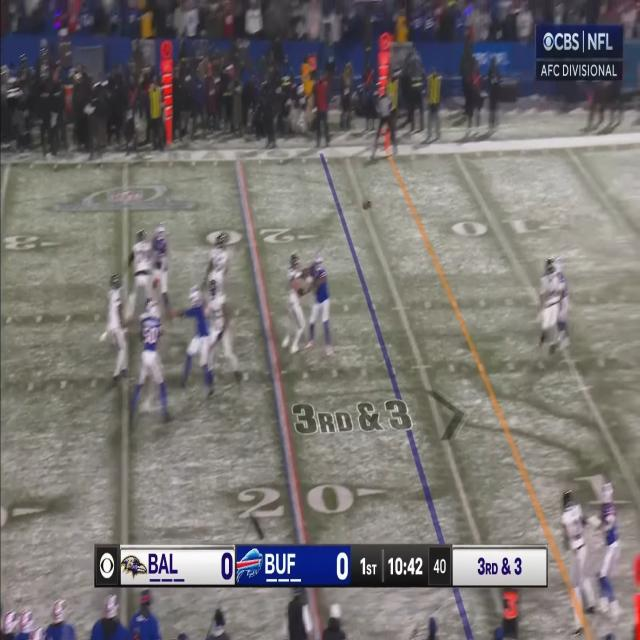Ball: (362, 197, 372, 211)
